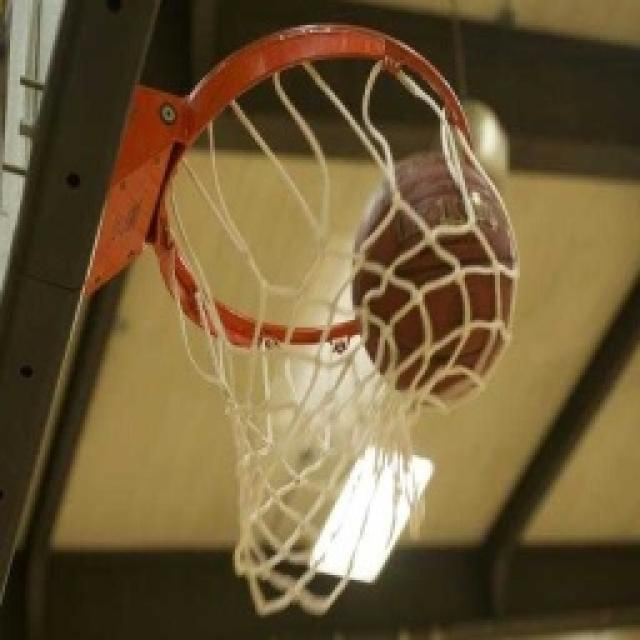rim: (341, 142, 528, 412)
